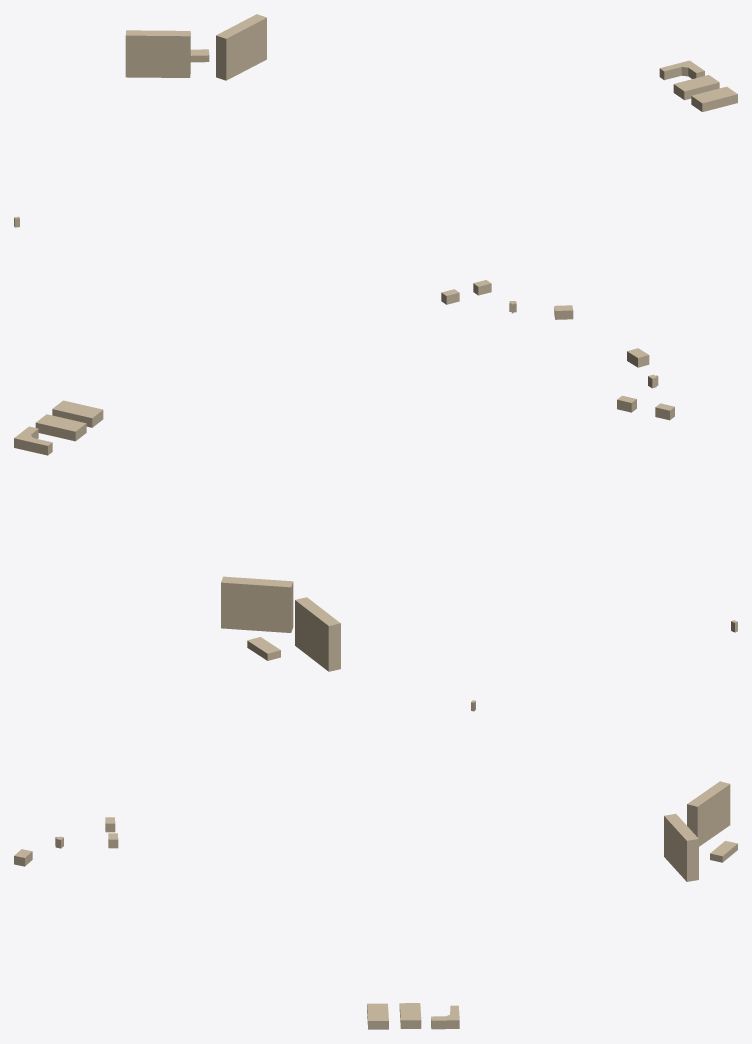
File: -15_-6-estimated-coarse.glb
The picture shows the model from 3 angles, top to bottom: view 1: azimuth 30°, elevation 25°; view 2: azimuth 150°, elevation 25°; view 3: azimuth 270°, elevation 25°; orthographic projection. The views are drawn at different scales.
Size of the model in its own units: 955 by 57 by 910.
